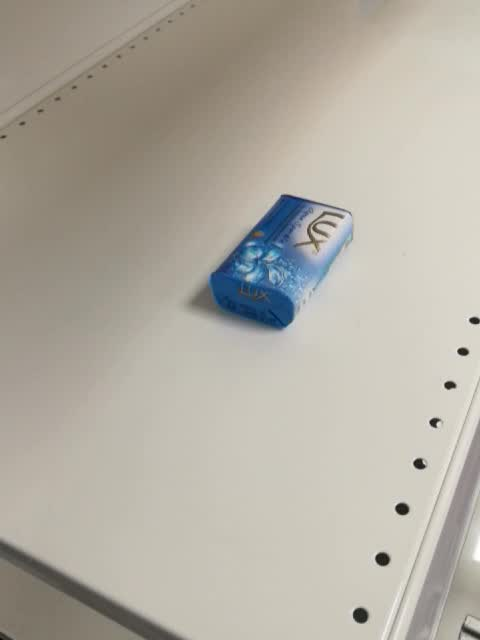soap: (208, 193, 355, 330)
